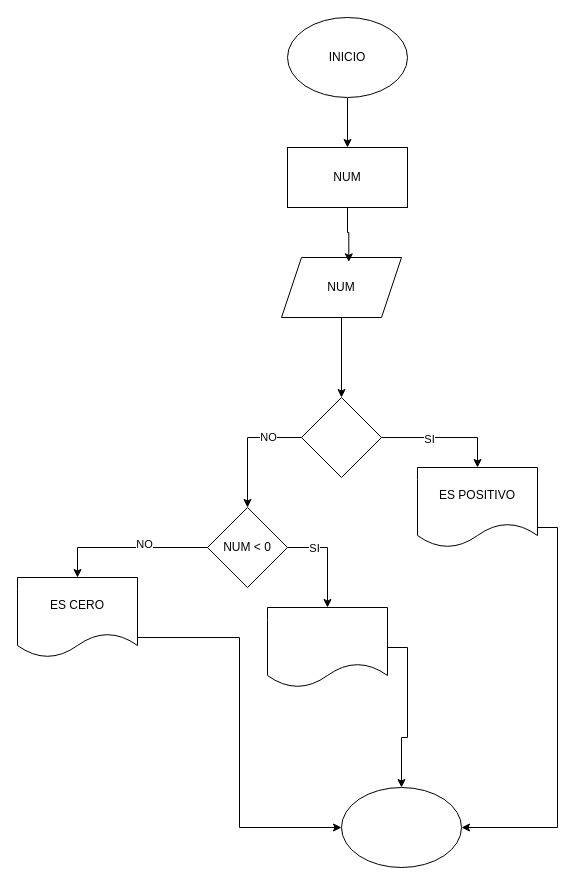
The diagram is 583 pixels wide and 885 high, and some of its shapes have lost their labels. Each missing label, with the box of its shape:
ES NEGATIVO: (266, 606, 388, 688)
FIN: (340, 786, 462, 868)
NUM > 0: (300, 396, 382, 478)
